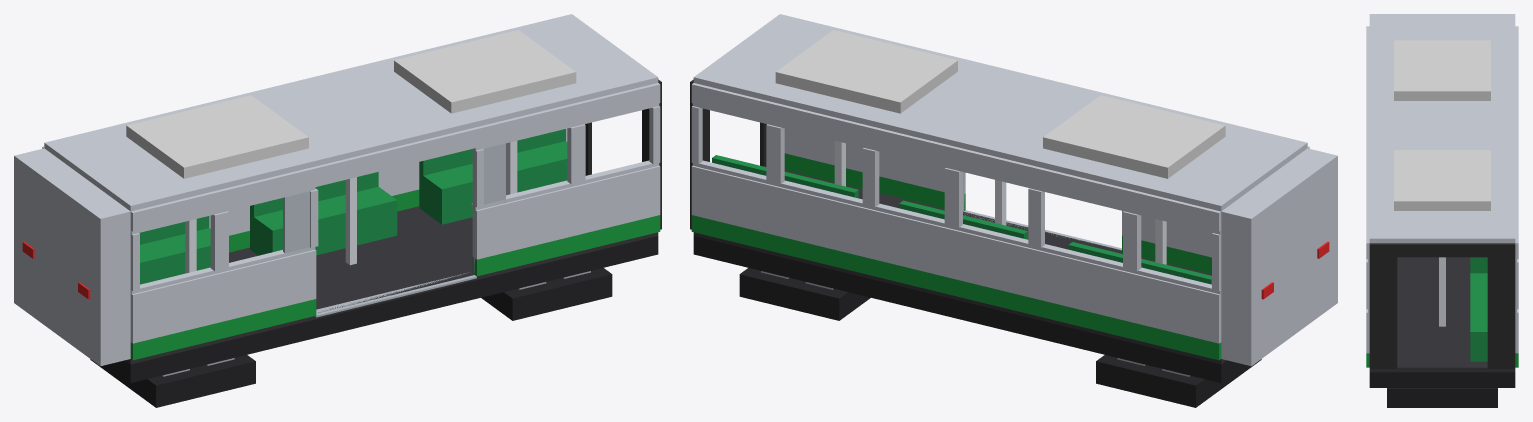
File: metro_wagon_rear_l2.obj
3 renders of one model, left to right at view 1: azimuth 30°, elevation 25°; view 2: azimuth 150°, elevation 25°; view 3: azimuth 270°, elevation 25°, orthographic. The views are drawn at different scales.
Size of the model in its own units: 3.16 by 1.26 by 0.88.
